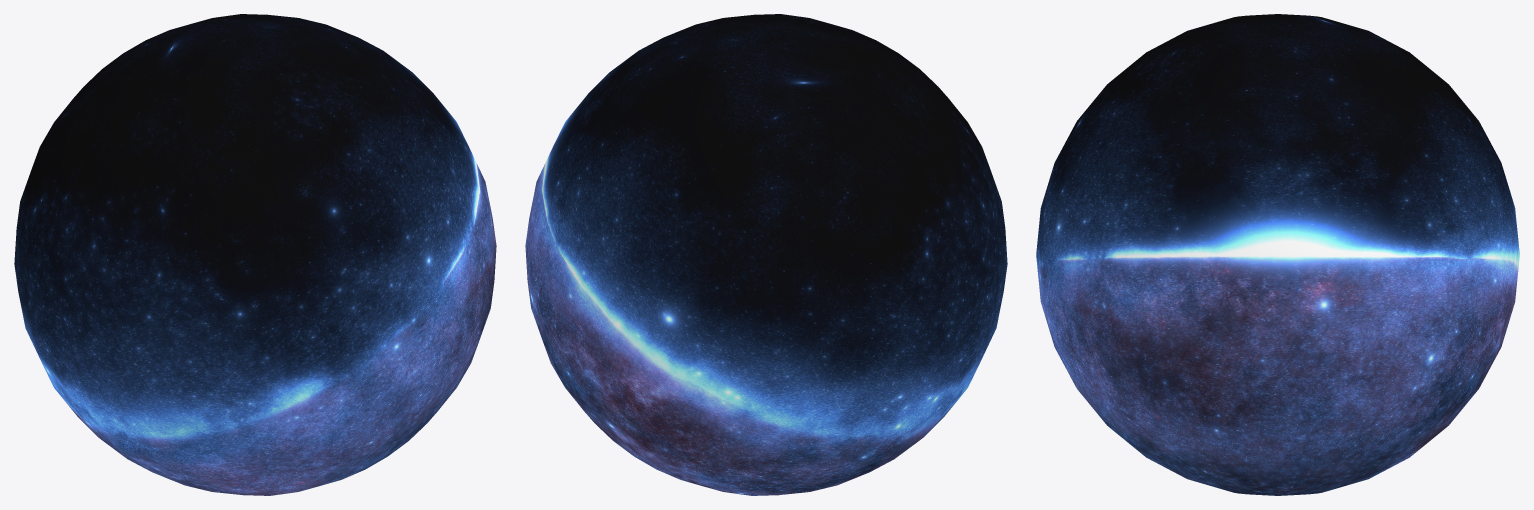
The model's file is sky[1].glb.
3 views of the same model, side by side, from view 1: azimuth 30°, elevation 25°; view 2: azimuth 150°, elevation 25°; view 3: azimuth 270°, elevation 25° (orthographic).
Size of the model in its own units: 2 by 2 by 2.
1 material, 1 textured.
